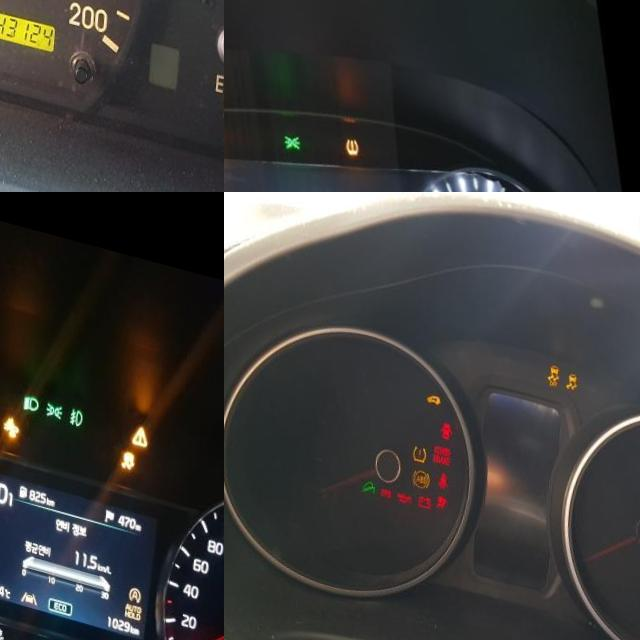Central Warning lamp: (135, 402, 151, 425)
Doors: (445, 407, 459, 425)
FrontFogLight: (72, 387, 86, 409)
Low beam: (26, 377, 43, 396)
SideLamp: (286, 114, 305, 136), (48, 383, 66, 401)
